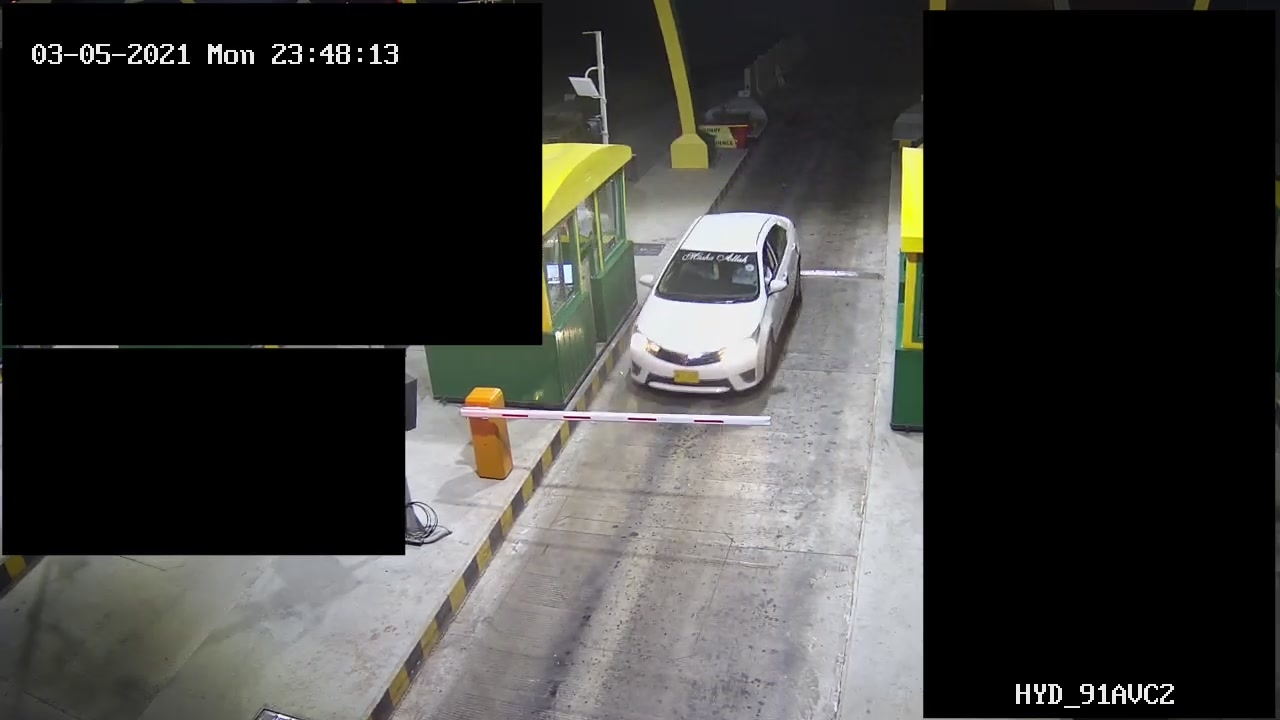F1: (623, 200, 812, 406)
